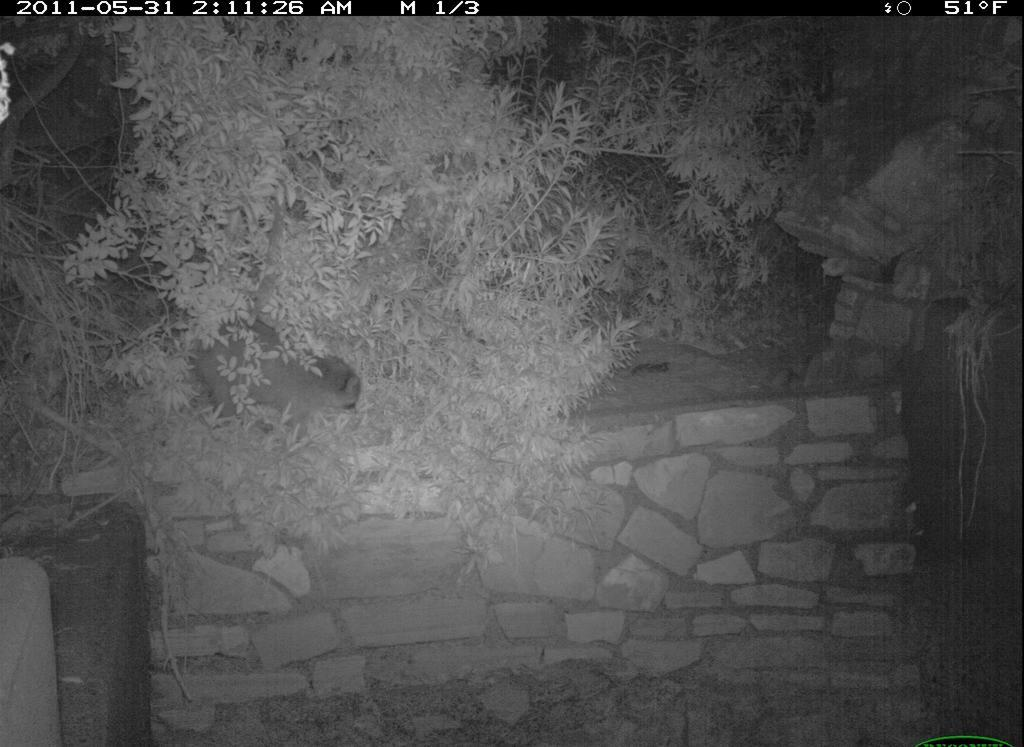raccoon: (187, 289, 369, 447)
